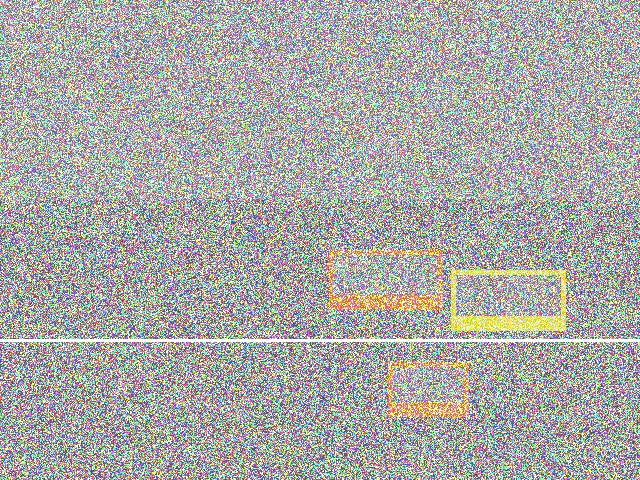motorcycle: (459, 250, 537, 363), (32, 308, 198, 359)
truck: (175, 320, 272, 369)
